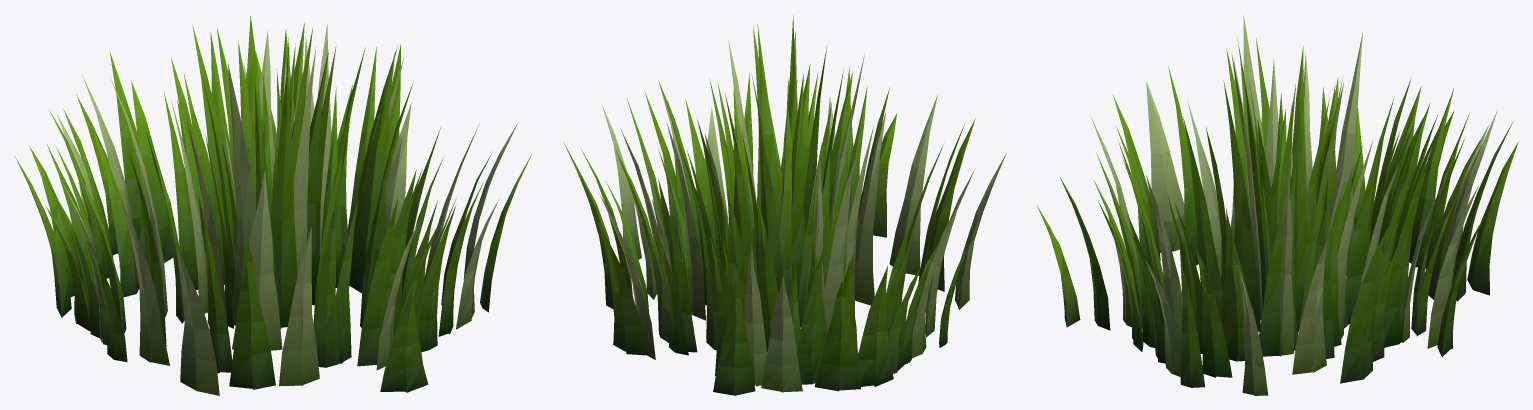
File: vegetasi_grass_moss_158537.glb
3 views of the same model, side by side, from view 1: azimuth 30°, elevation 25°; view 2: azimuth 150°, elevation 25°; view 3: azimuth 270°, elevation 25° (orthographic). The views are drawn at different scales.
Visible parts, largest first — view 1: Rumpun_Rumput_Liar; view 2: Rumpun_Rumput_Liar; view 3: Rumpun_Rumput_Liar.
Boxes of the visible parts, box(x1,y1,x2,y2) form: Rumpun_Rumput_Liar: box(15, 16, 533, 395); Rumpun_Rumput_Liar: box(563, 15, 1006, 395); Rumpun_Rumput_Liar: box(1037, 15, 1518, 395).
Bounding box in the file's own units: 3.05 × 2.08 × 3.19.
